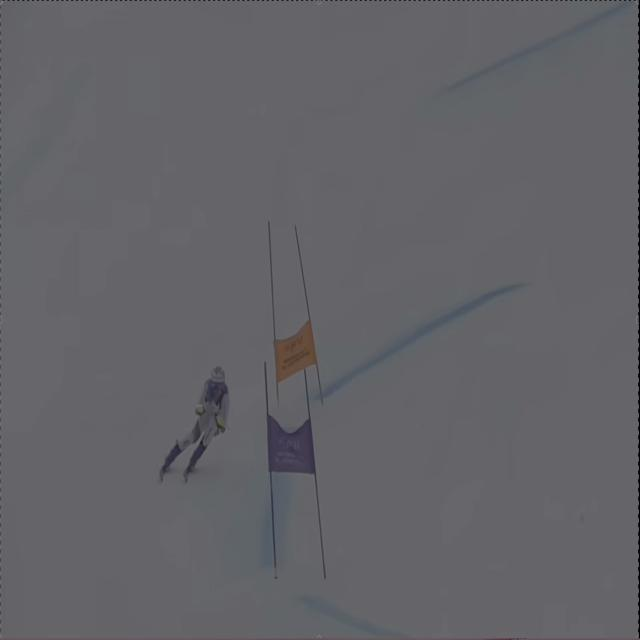gate: (288, 210, 335, 404), (258, 367, 290, 588), (298, 363, 330, 583), (252, 207, 281, 398)
